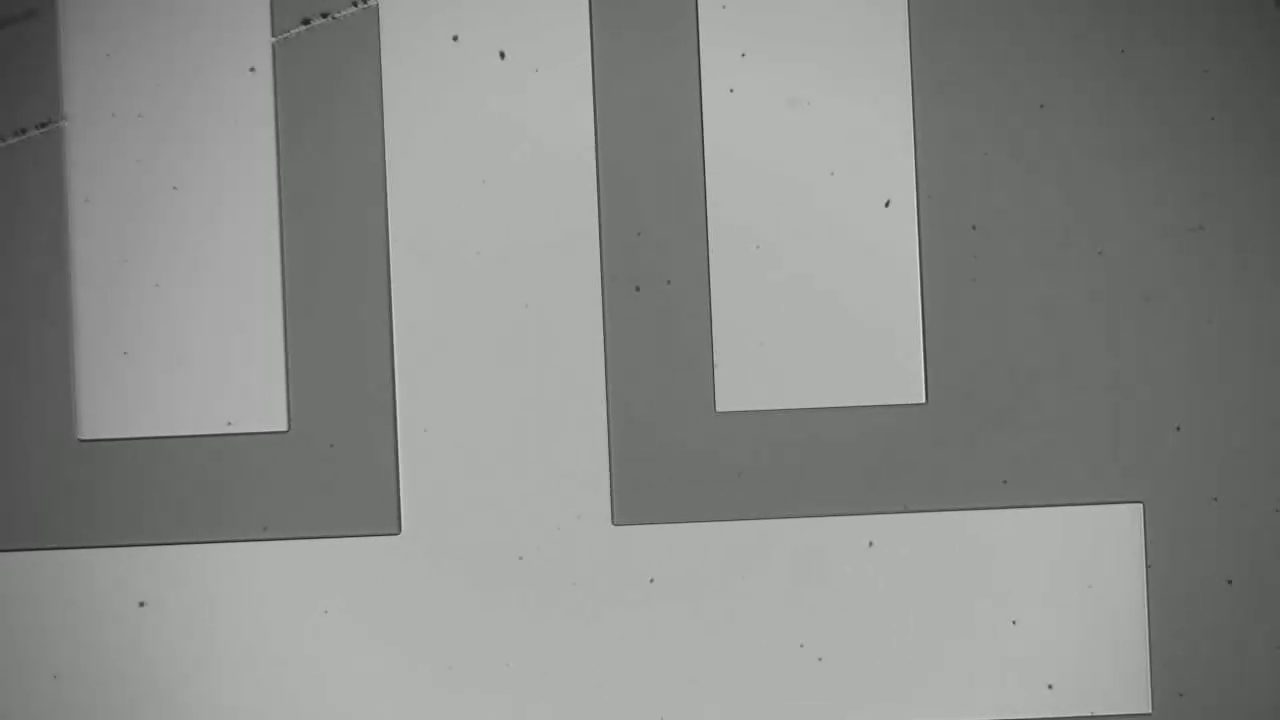scratch: (266, 1, 362, 43), (1, 115, 56, 148)
